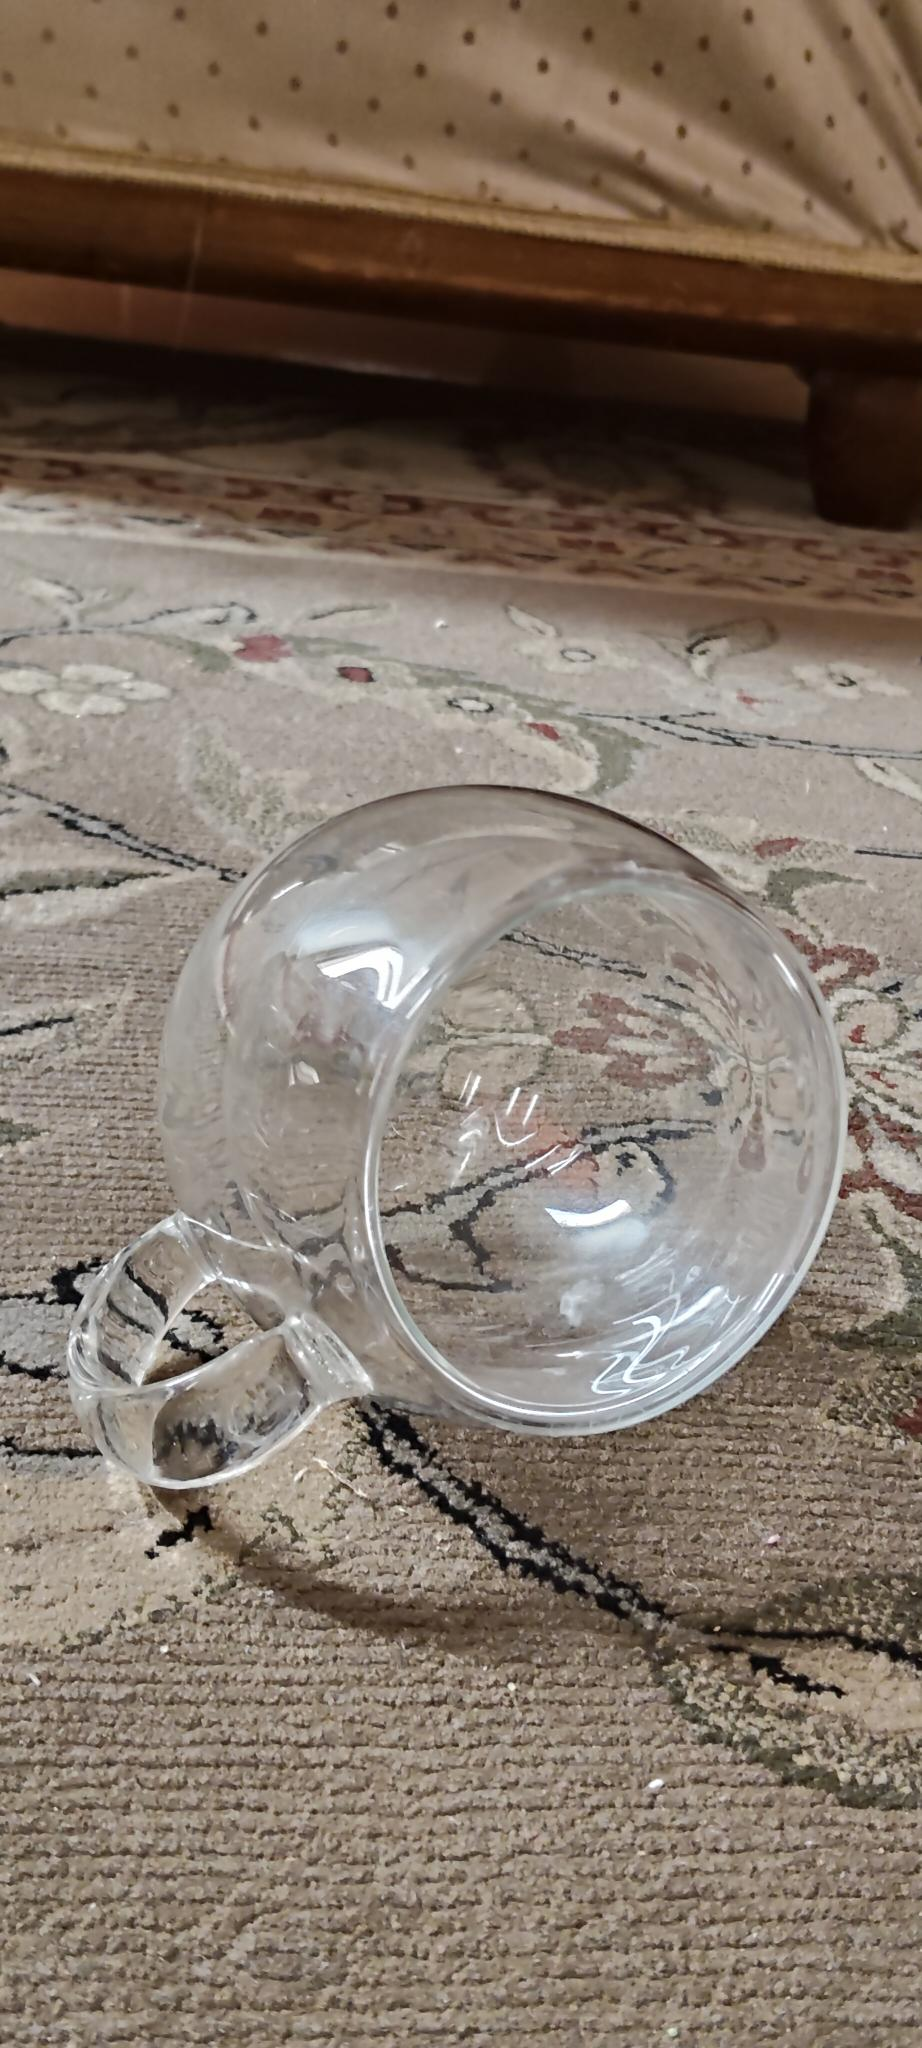Mug: (67, 779, 860, 1507)
